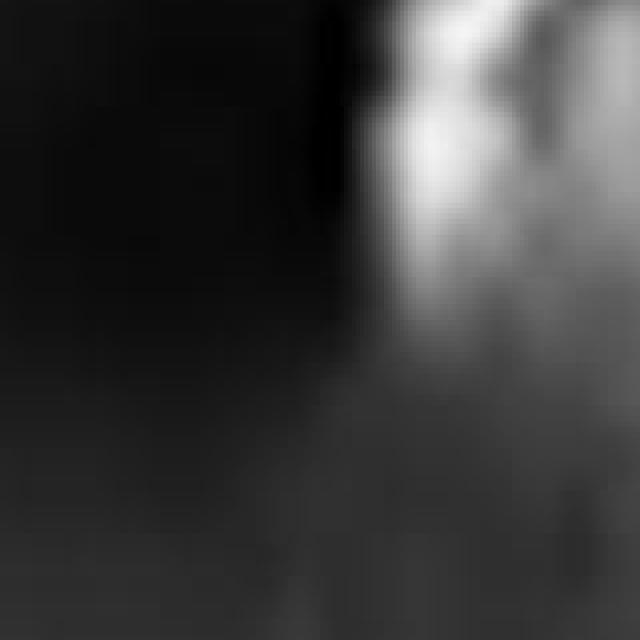person: (353, 1, 581, 390)
